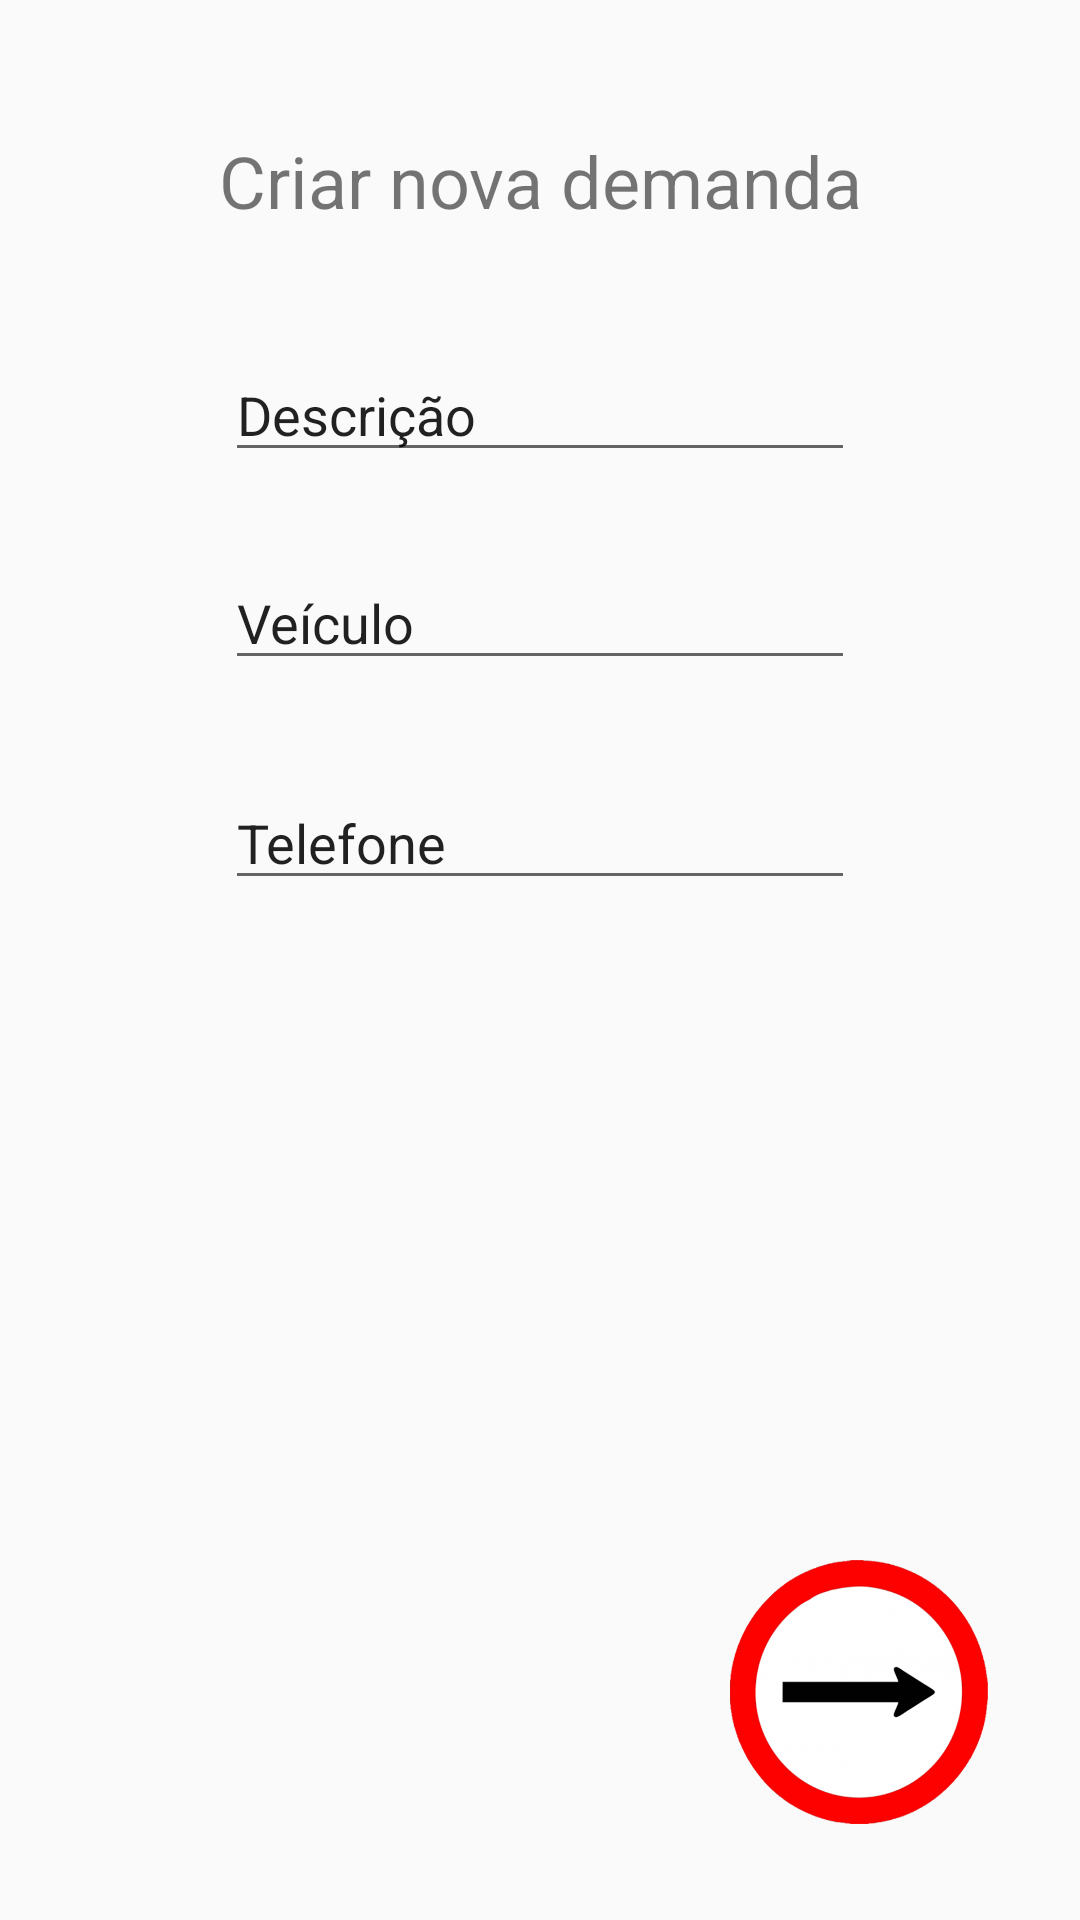

Named icons in this screenshot (1080×1920) and their bounding boxes, (x1, y1, x2, y2):
direita: (730, 1560, 988, 1824)
